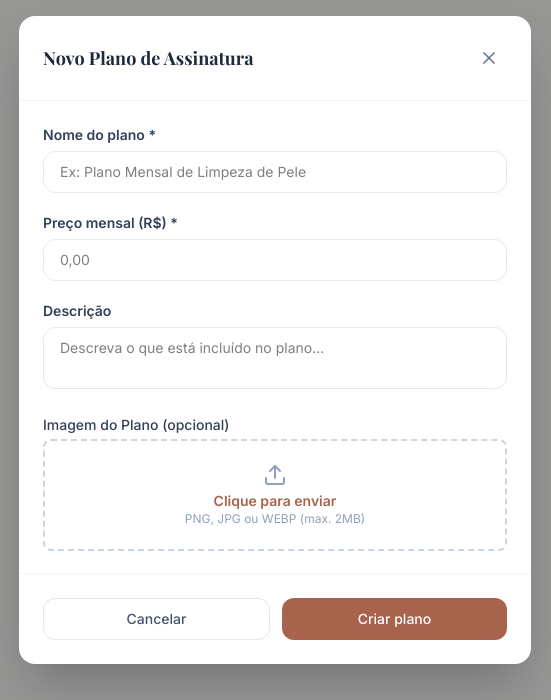
Test case: components/SubscriptionPlanModal — validações client-side › bloqueia salvar com item sem procedimento selecionado
Type "Plano X" into the field with placeholder "Ex: Plano Mensal de Limpeza de Pele" at (275, 172), box [43,151,507,193]
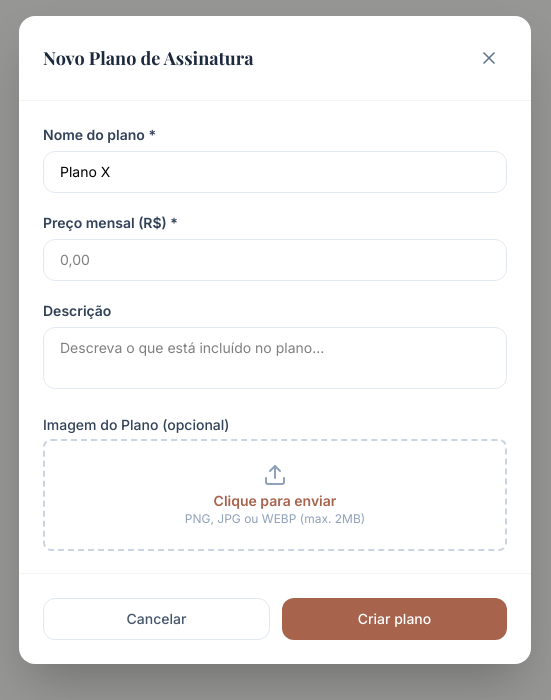
Type "99.9" into the number field with placeholder "0,00" at (275, 260), box [43,239,507,281]
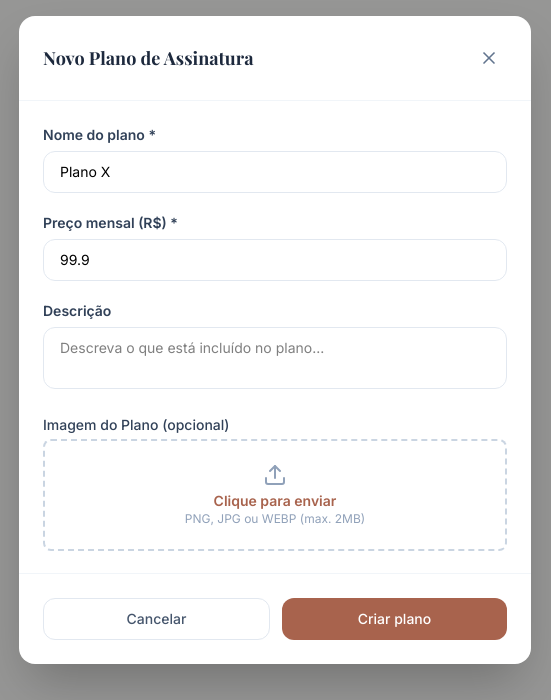
Click the button "Criar plano" at (394, 619), box [282,598,507,640]
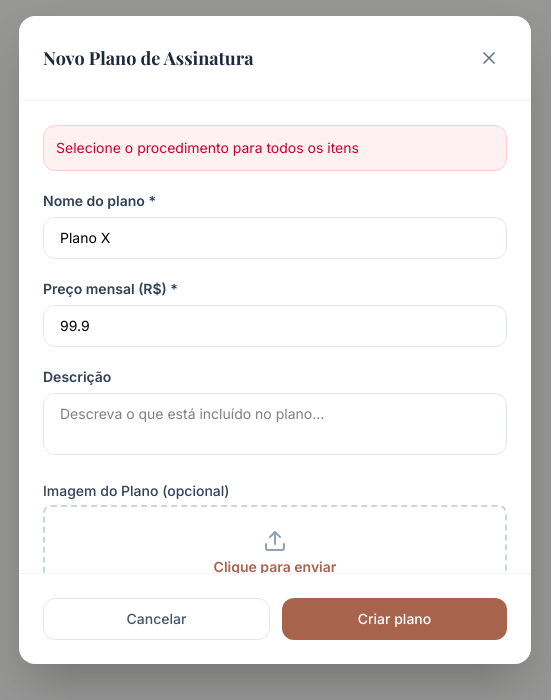
Result: the text "Selecione o procedimento para todos os itens" is shown at [43,125,507,171]
